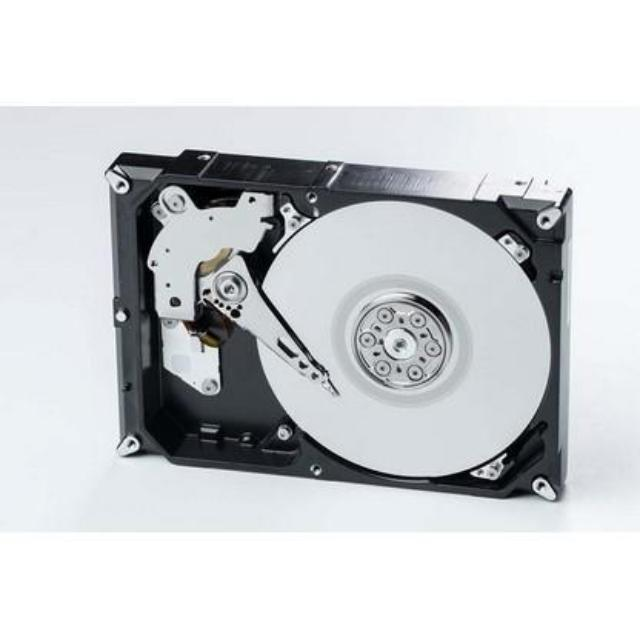DISK: (98, 144, 580, 504)
